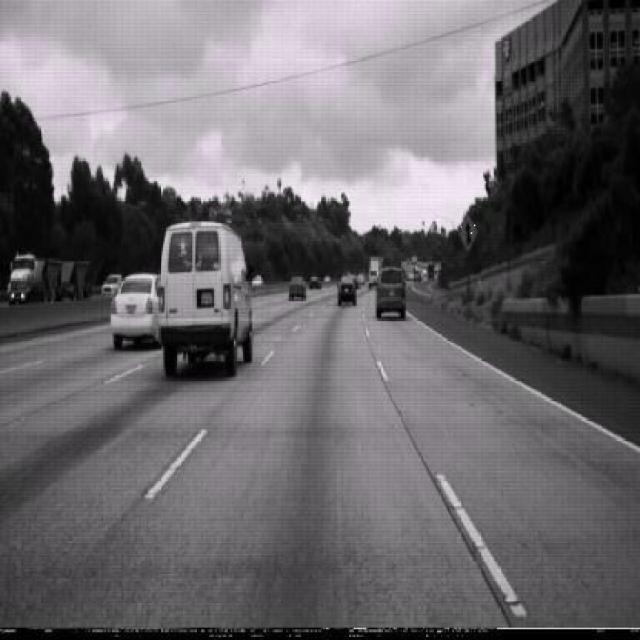merge: (457, 212, 478, 253)
